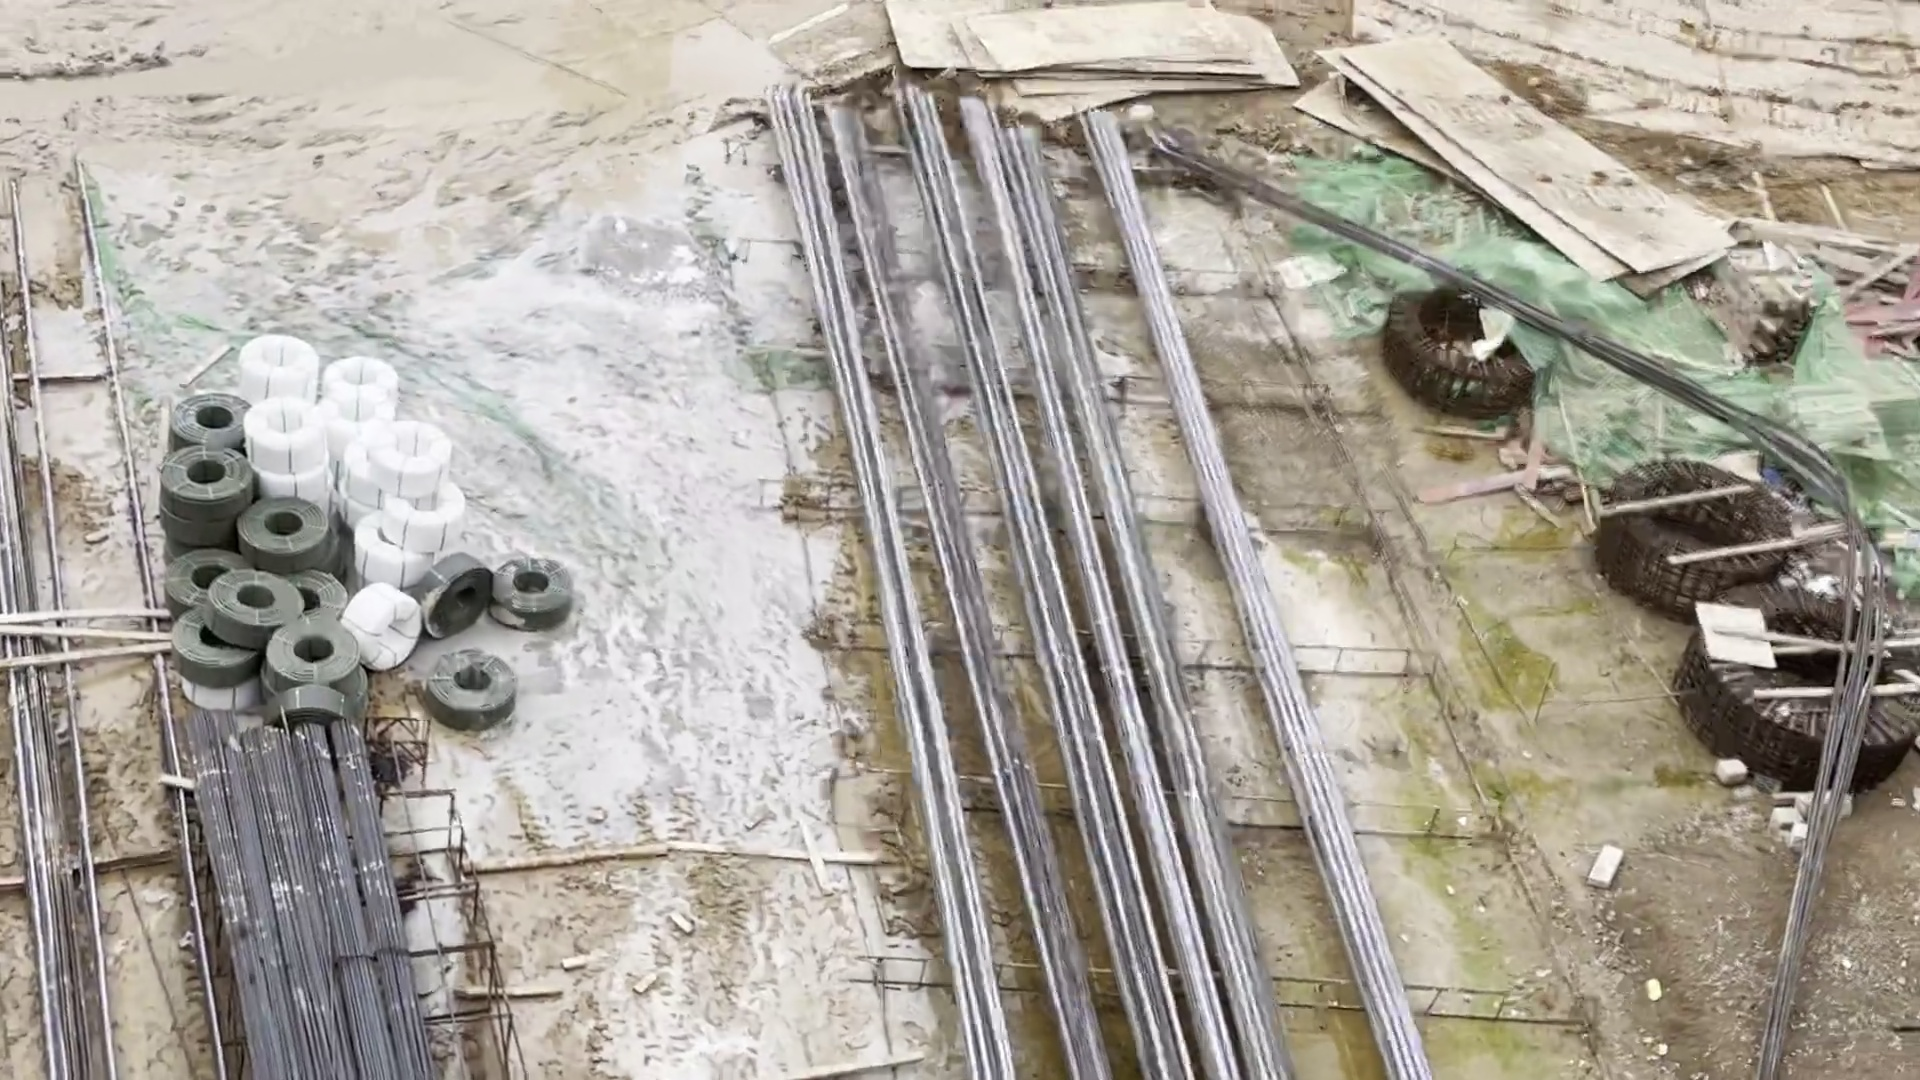rebar: (841, 117, 1213, 1080), (194, 725, 418, 1080)
